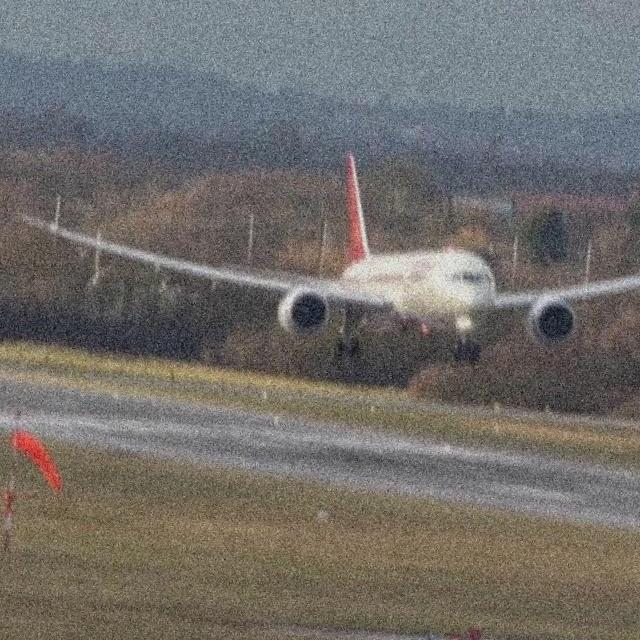airplane: (11, 142, 640, 377)
